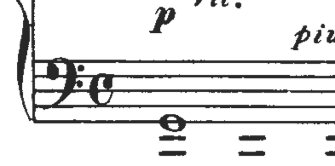bass_clef: (39, 48, 86, 114)
common_time_sig: (86, 66, 116, 112)
